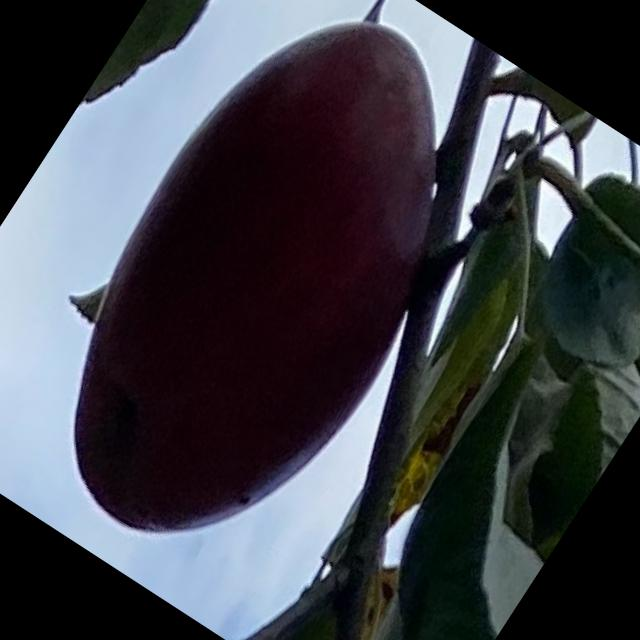Apples: (0, 0, 541, 596)
